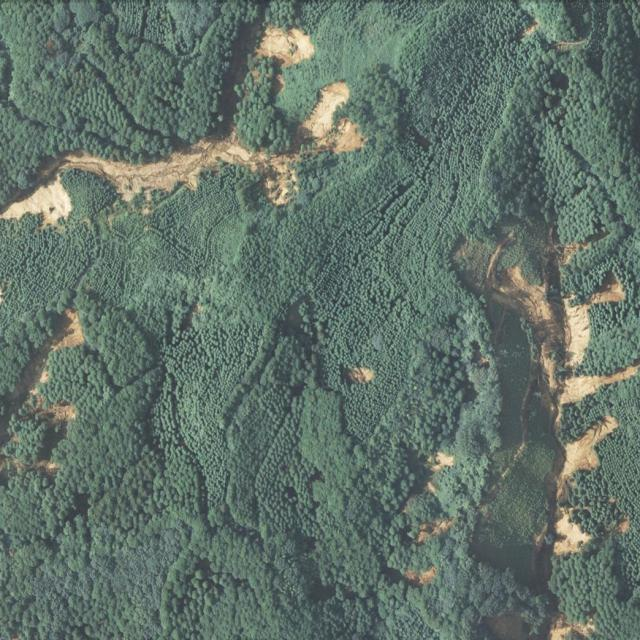landslide: (0, 81, 365, 224), (482, 236, 640, 434), (0, 308, 84, 447), (556, 416, 619, 504), (256, 27, 313, 65), (554, 508, 591, 557)
